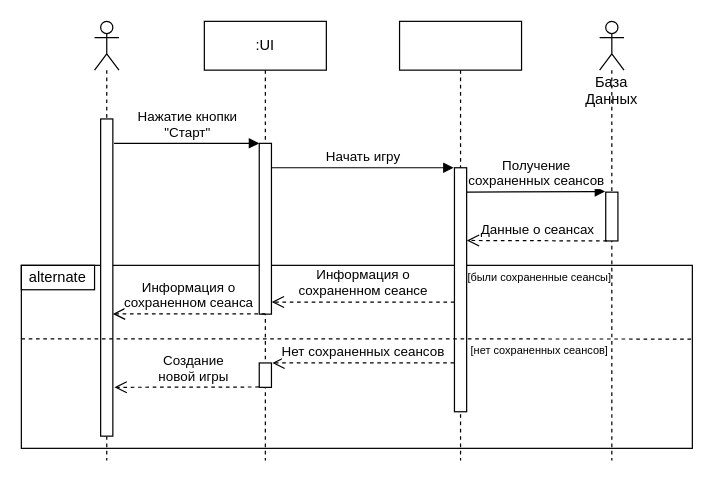
This 715x482 diagram has some shape labels left out. The shapes that lost their labels are listed below. From the top down, each one's box as (x1, y1, x2, y2) in pixels, then its label:
(93, 20, 119, 461): Игрок
(398, 20, 522, 461): :ViewModel
